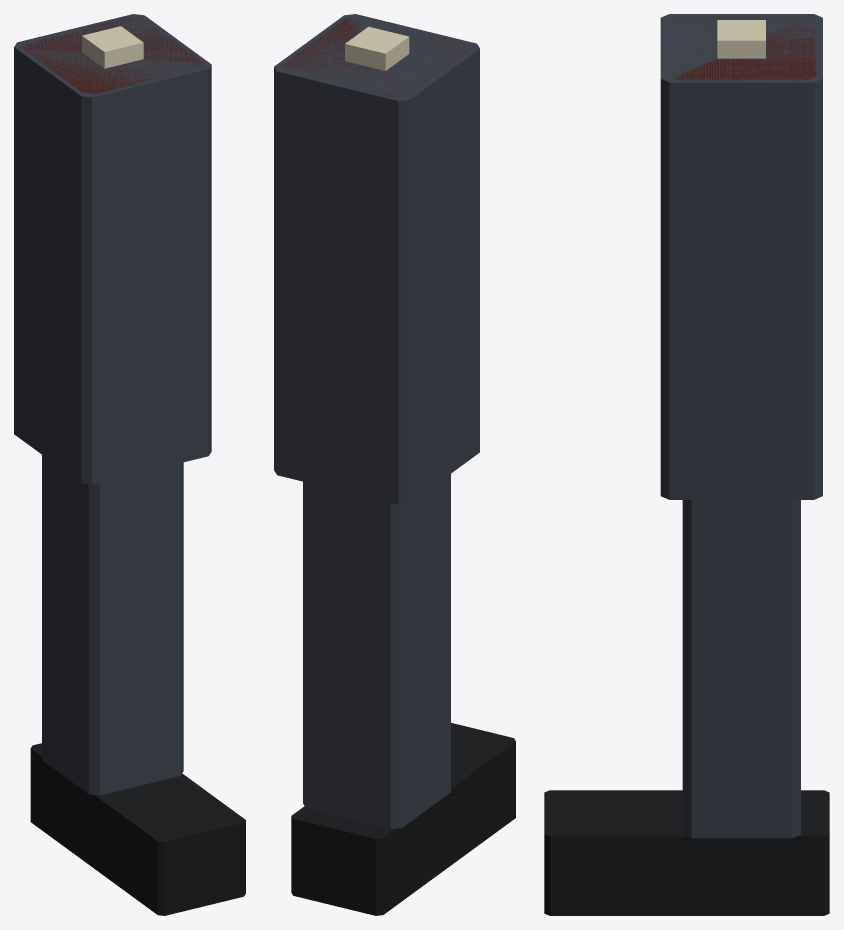
File: shambler_right_leg.glb
The picture shows the model from 3 angles, left to right: view 1: azimuth 30°, elevation 25°; view 2: azimuth 150°, elevation 25°; view 3: azimuth 270°, elevation 25°; orthographic projection. The views are drawn at different scales.
Visible parts, largest first — view 1: part:limb; view 2: part:limb; view 3: part:limb.
Part boxes in pixels (x1,y1,x2,y2): part:limb: [14, 14, 245, 915]; part:limb: [274, 14, 515, 915]; part:limb: [544, 14, 829, 915].
Bounding box in the file's own units: 0.148 × 0.868 × 0.26.
